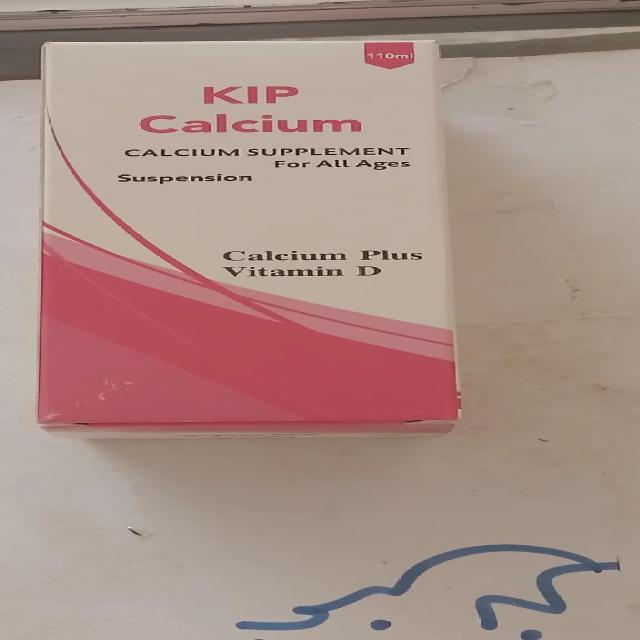drug-name: (134, 79, 368, 135)
